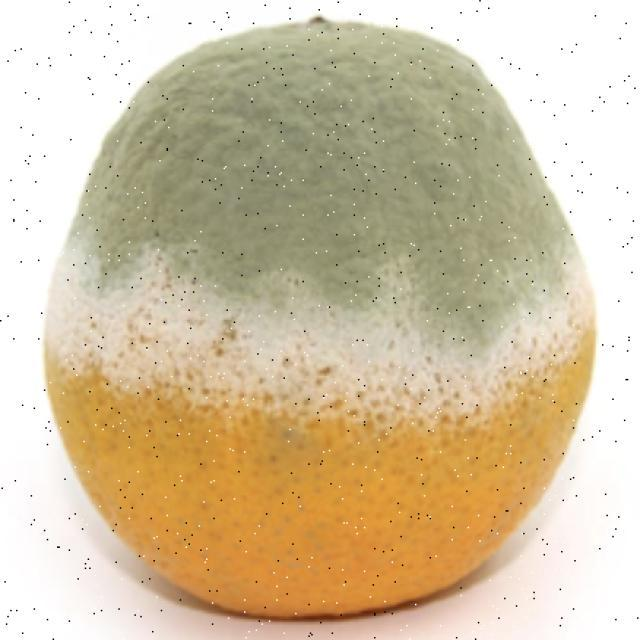sangat-busuk: (45, 23, 595, 616)
